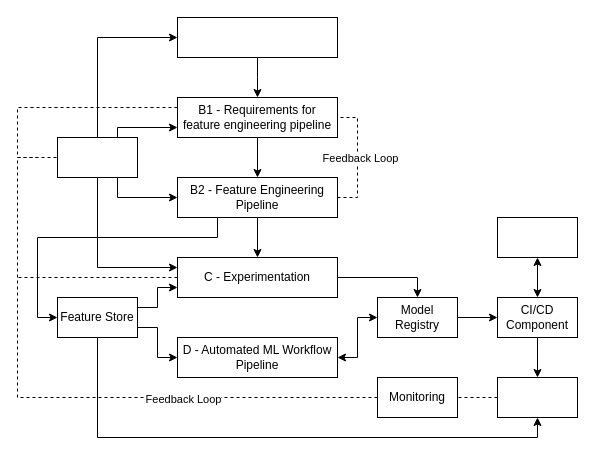
Some shapes in this 595 by 463 pixel diagram are drawn without their labels. The shapes that lost their labels are listed below. From the top down, each one's centre as x and y in pixels, then its label:
At (x=257, y=37): "A - MLOps Product Iniitation".
At (x=97, y=157): "Data Sources".
At (x=537, y=237): "Repository".
At (x=537, y=397): "Model Serving Component".
